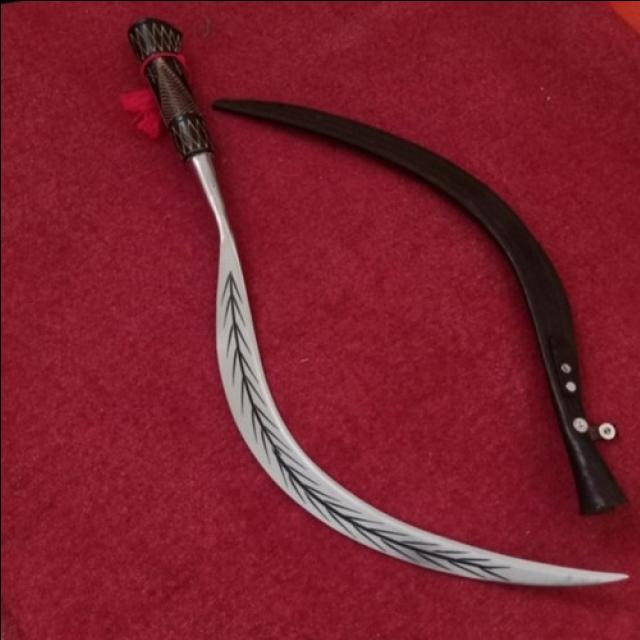Celurit: (128, 17, 633, 591)
